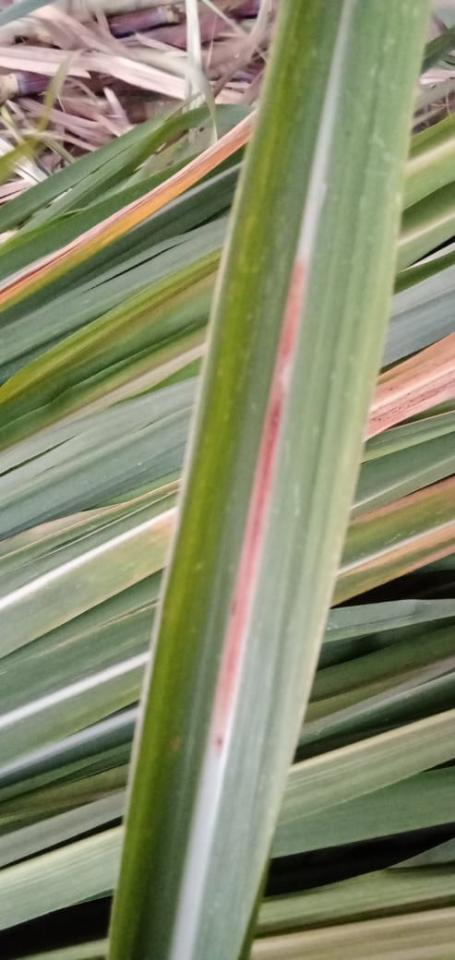RedRot: (213, 258, 306, 762)
